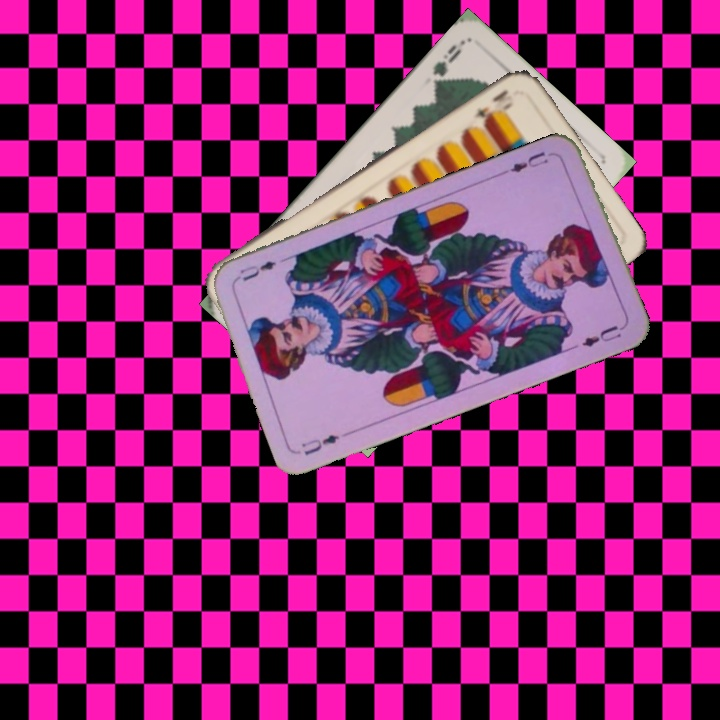E10: (470, 85, 516, 126)
EU: (501, 147, 558, 176), (297, 430, 342, 458)
G9: (428, 37, 467, 91)
